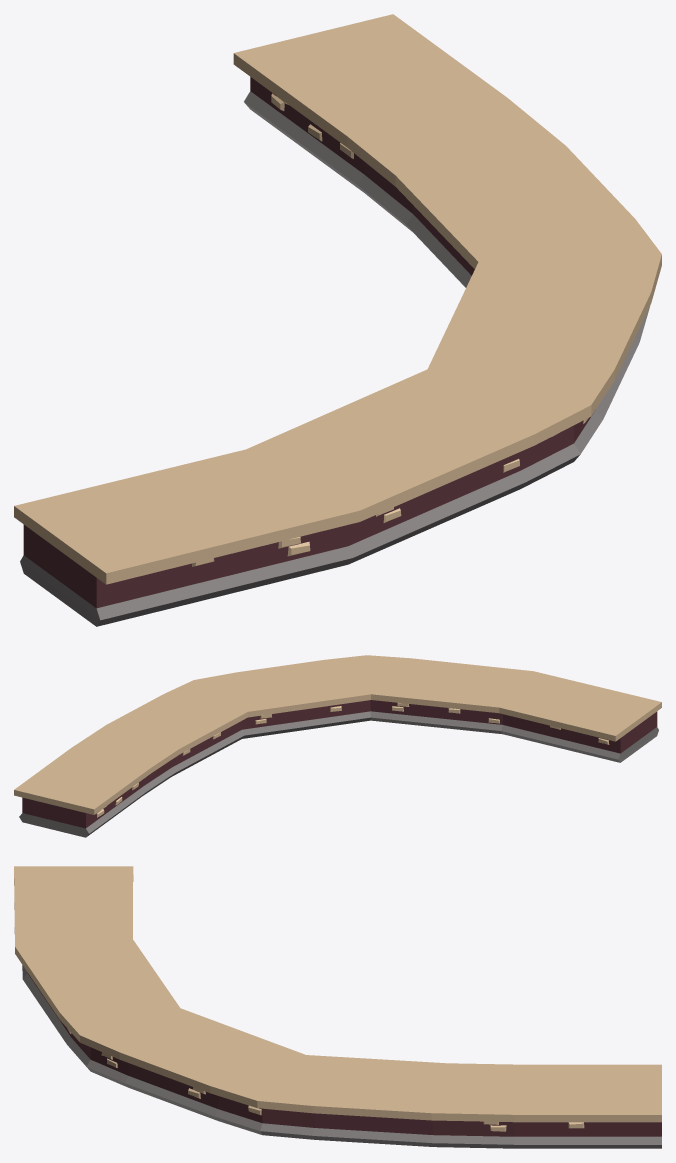
Rendered from empire-aqueduct-water-trough-curve-empire.glb.
3 views of the same model, one above another, from view 1: azimuth 30°, elevation 25°; view 2: azimuth 150°, elevation 25°; view 3: azimuth 270°, elevation 25° (orthographic). The views are drawn at different scales.
Parts seen in each view (by area): view 1: SM_Aqueduct_Water_Trough_Curve_Empire; view 2: SM_Aqueduct_Water_Trough_Curve_Empire; view 3: SM_Aqueduct_Water_Trough_Curve_Empire.
Boxes of the visible parts, <box> form: SM_Aqueduct_Water_Trough_Curve_Empire: <box>14,14,661,626</box>; SM_Aqueduct_Water_Trough_Curve_Empire: <box>14,655,661,837</box>; SM_Aqueduct_Water_Trough_Curve_Empire: <box>14,866,661,1148</box>.
Bounding box in the file's own units: 16.82 × 1.24 × 18.53.
